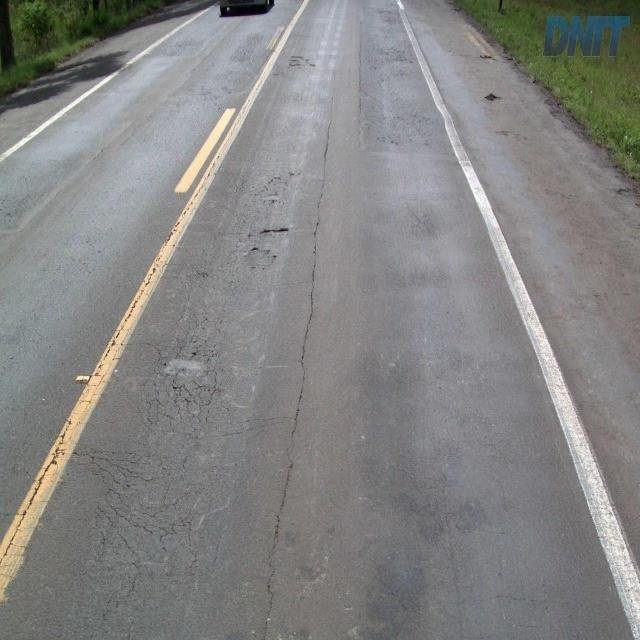pothole: (255, 226, 293, 239)
